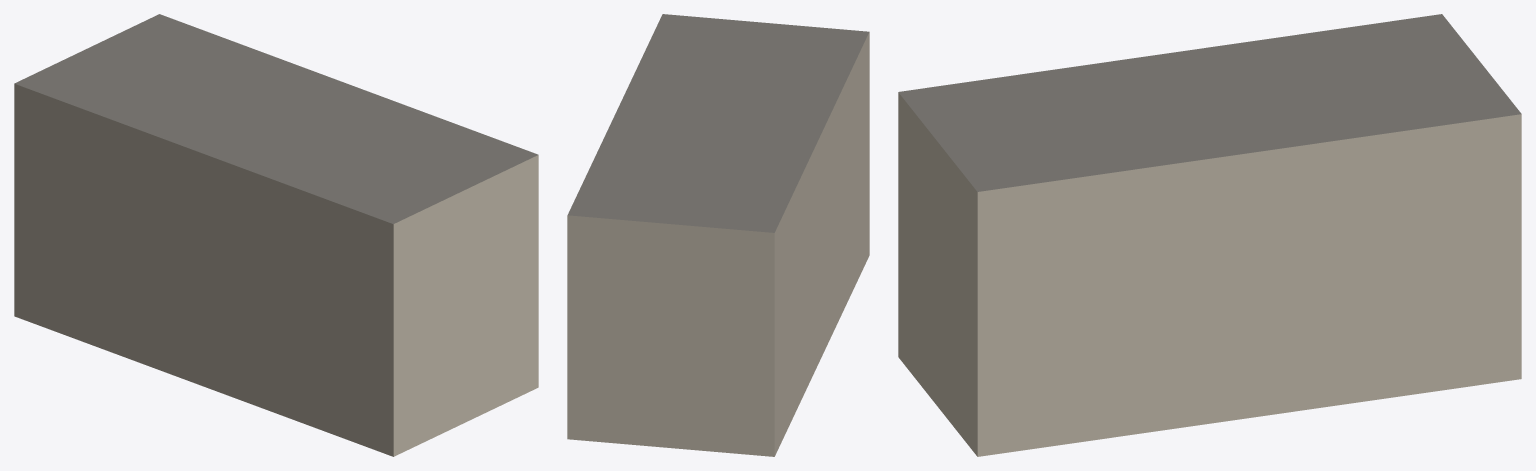
3 views of the same model, side by side, from view 1: azimuth 30°, elevation 25°; view 2: azimuth 150°, elevation 25°; view 3: azimuth 270°, elevation 25° (orthographic). The views are drawn at different scales.
Visible parts, largest first — view 1: HP-w372180414; view 2: HP-w372180414; view 3: HP-w372180414.
Part boxes in pixels (x1,y1,x2,y2): HP-w372180414: (14, 14, 538, 456); HP-w372180414: (567, 14, 869, 456); HP-w372180414: (898, 14, 1521, 456).
Size of the model in its own units: 17.29 by 12 by 25.6.
